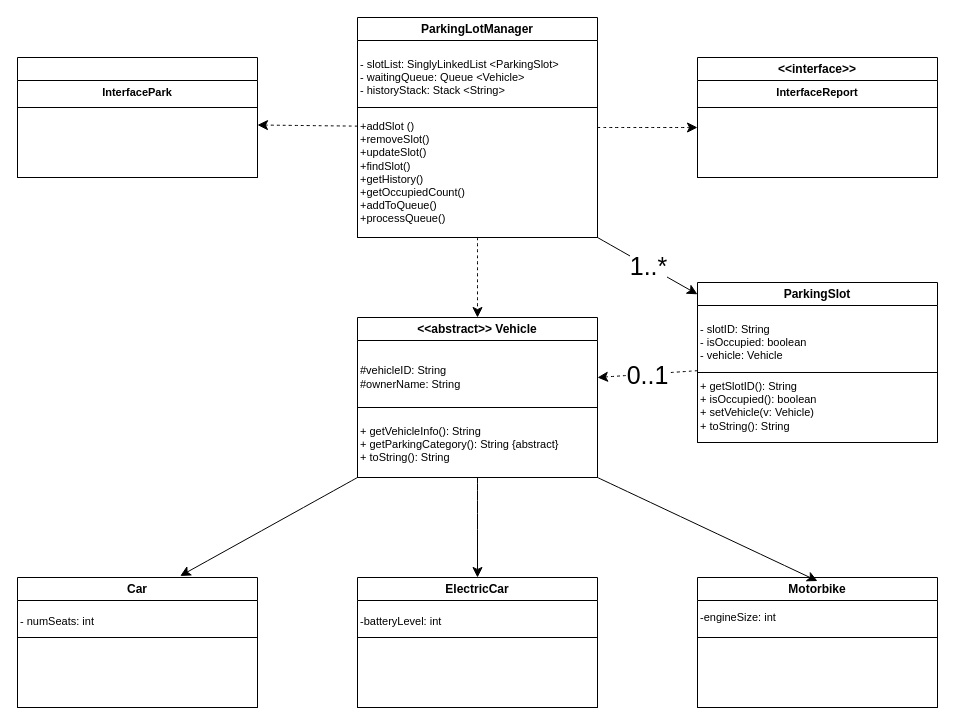
The diagram is 955 pixels wide and 725 high, and some of its shapes have lost their labels. Each missing label, with the centre of its shape:
"+ getParkingCategory(): String + toString(): String + getBatteryLevel(): int" belongs at (477,672).
"+ getParkingCategory(): String + toString(): String + getEngineSize: int" belongs at (817,672).
"+ getParkingCategory(): String + toString(): String + getNumSeats(): int" belongs at (137,672).
"+addSlot () +removeSlot() +updateSlot() +findSlot()" belongs at (137,142).
"+getHistory() +getOccupiedCount()" belongs at (817,142).
